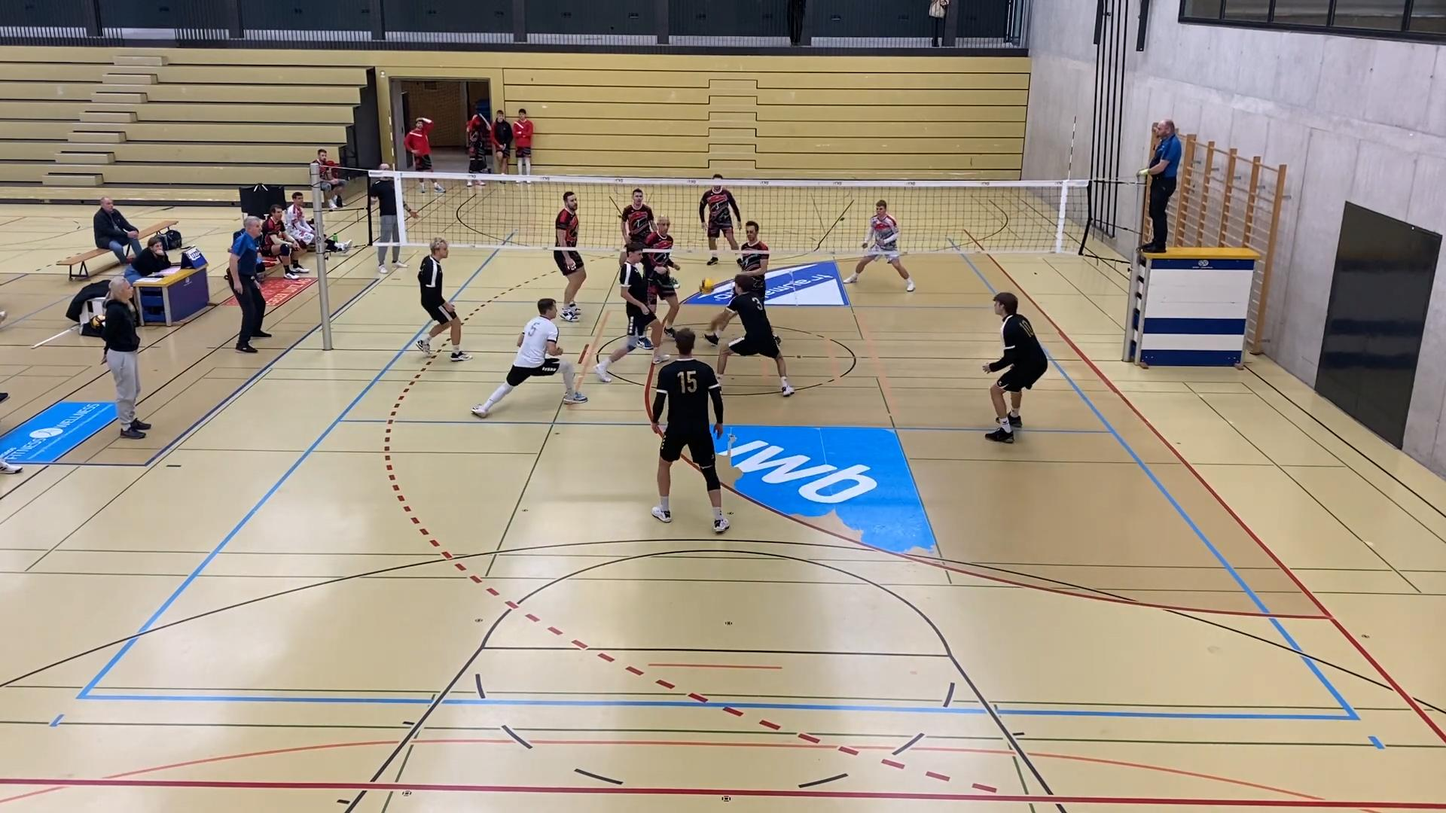difesa: (706, 274, 799, 397)
